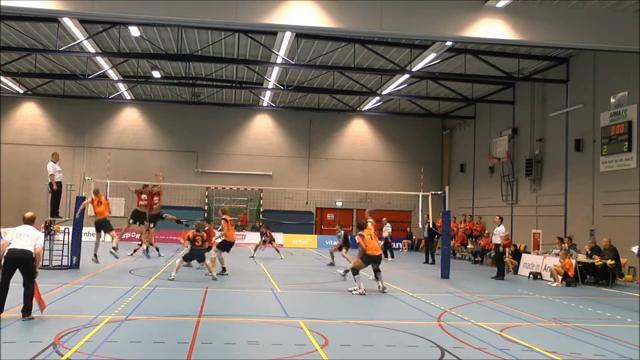attacco: (71, 181, 123, 266)
muro: (143, 168, 192, 262), (113, 167, 149, 257)
